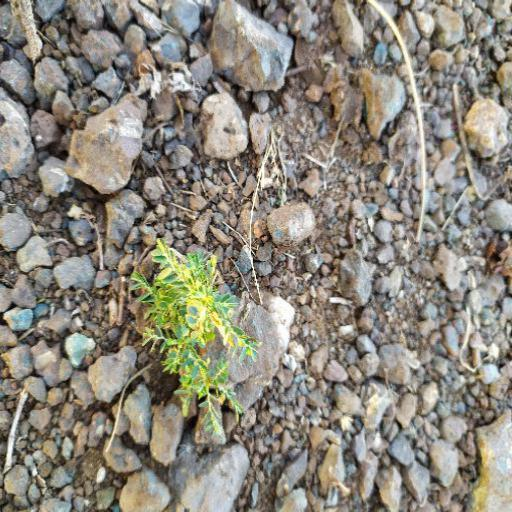weed: (128, 236, 257, 413)
